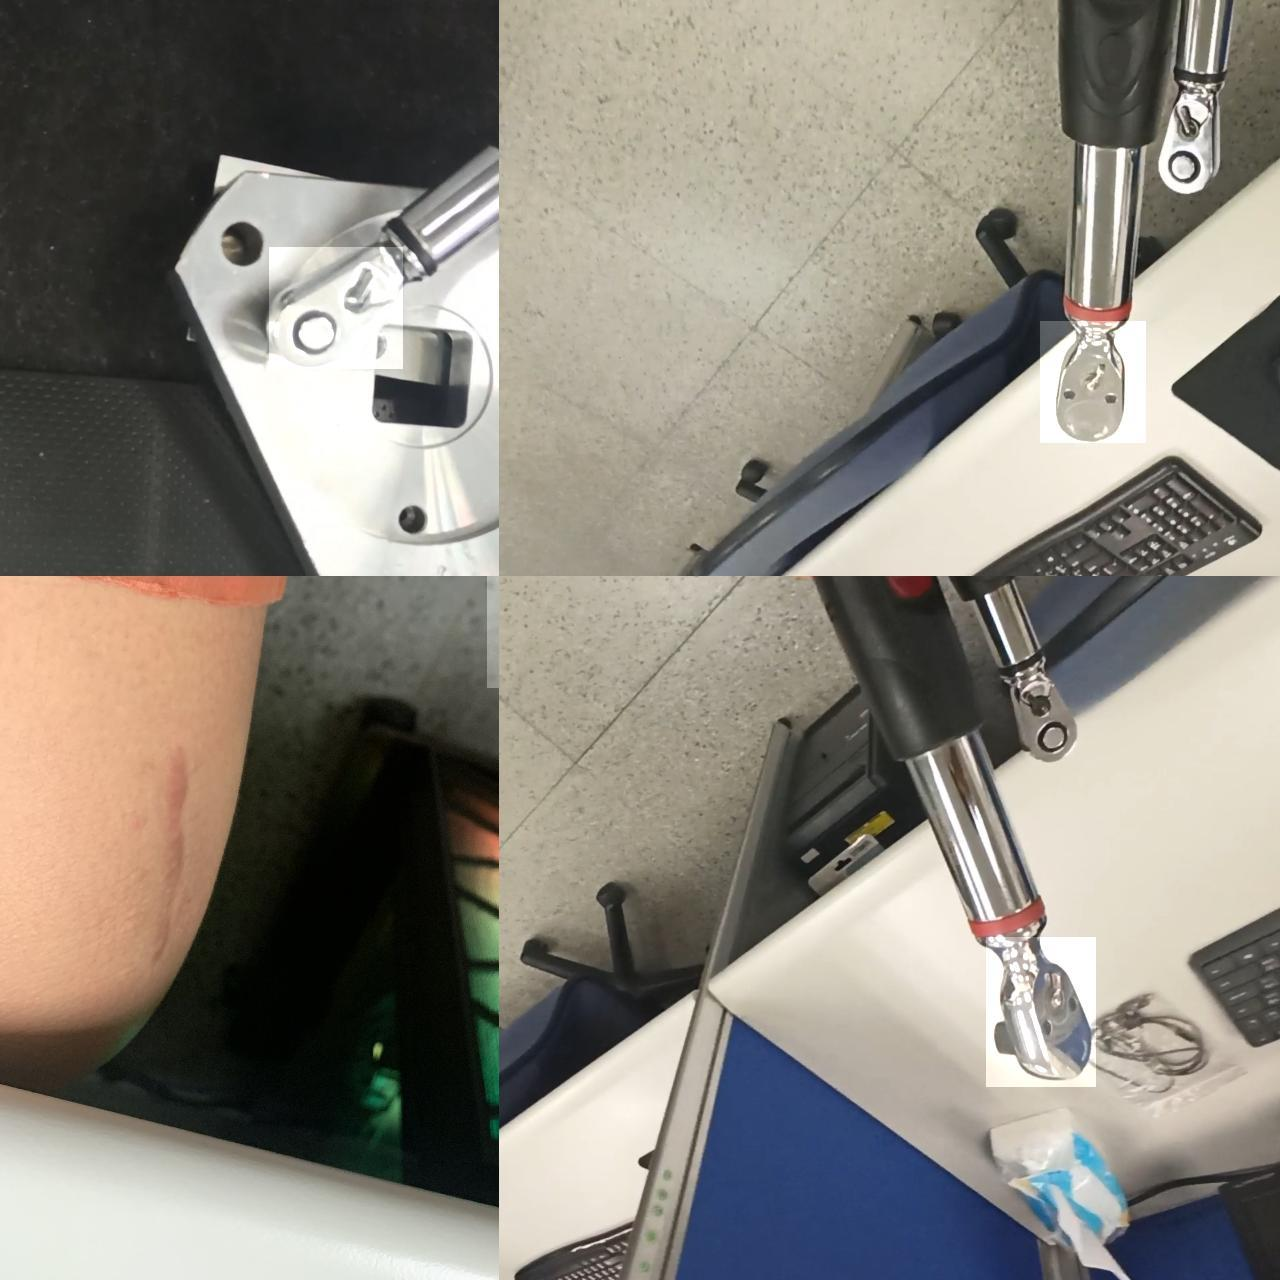Tool: (987, 940, 1098, 1086), (270, 247, 403, 368), (1040, 322, 1144, 444), (1156, 80, 1238, 196), (1009, 676, 1088, 767)
hole: (213, 213, 271, 276), (392, 496, 427, 540)
